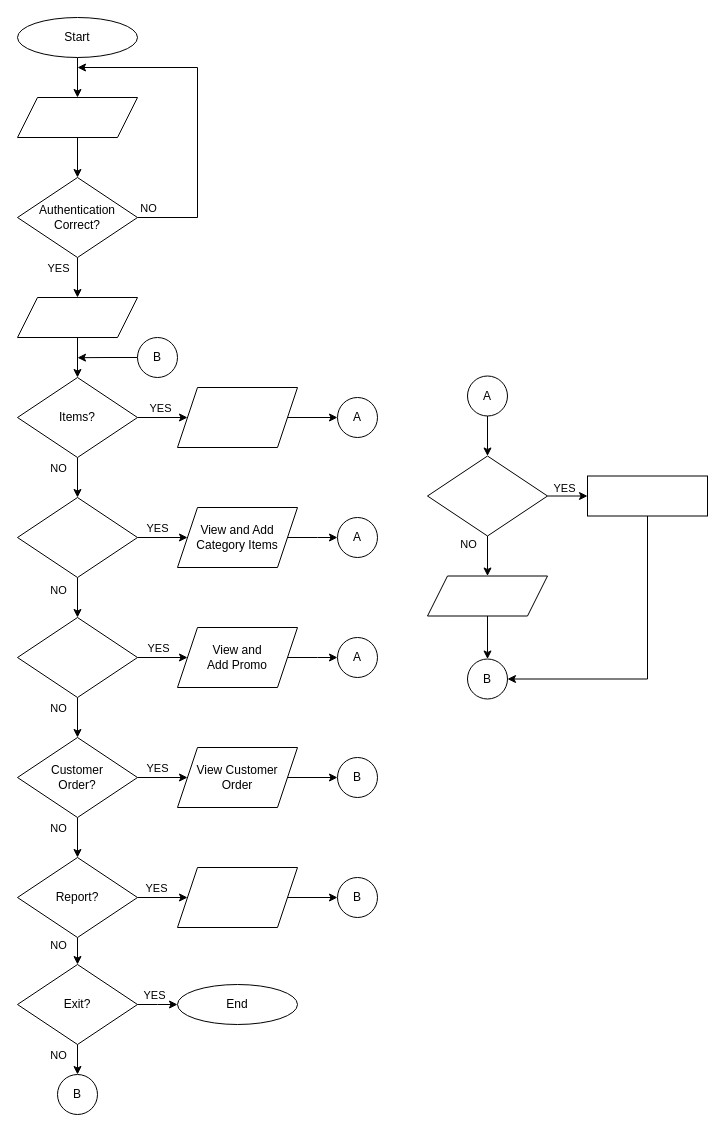
The diagram is 725 pixels wide and 1132 high, and some of its shapes have lost their labels. The shapes that lost their labels are listed below. From the top down, each one's box as (x1, y1, x2, y2) in pixels, then its label:
(16, 96, 138, 138): Login
(16, 296, 138, 338): Dashboard
(176, 386, 298, 448): View and Add Items
(426, 455, 548, 536): View Process?
(586, 475, 708, 516): Update Items/Promo
(16, 496, 138, 578): Category Items?
(426, 575, 548, 616): Detail Items/Promo
(16, 616, 138, 698): Promo?
(176, 866, 298, 928): View Report
